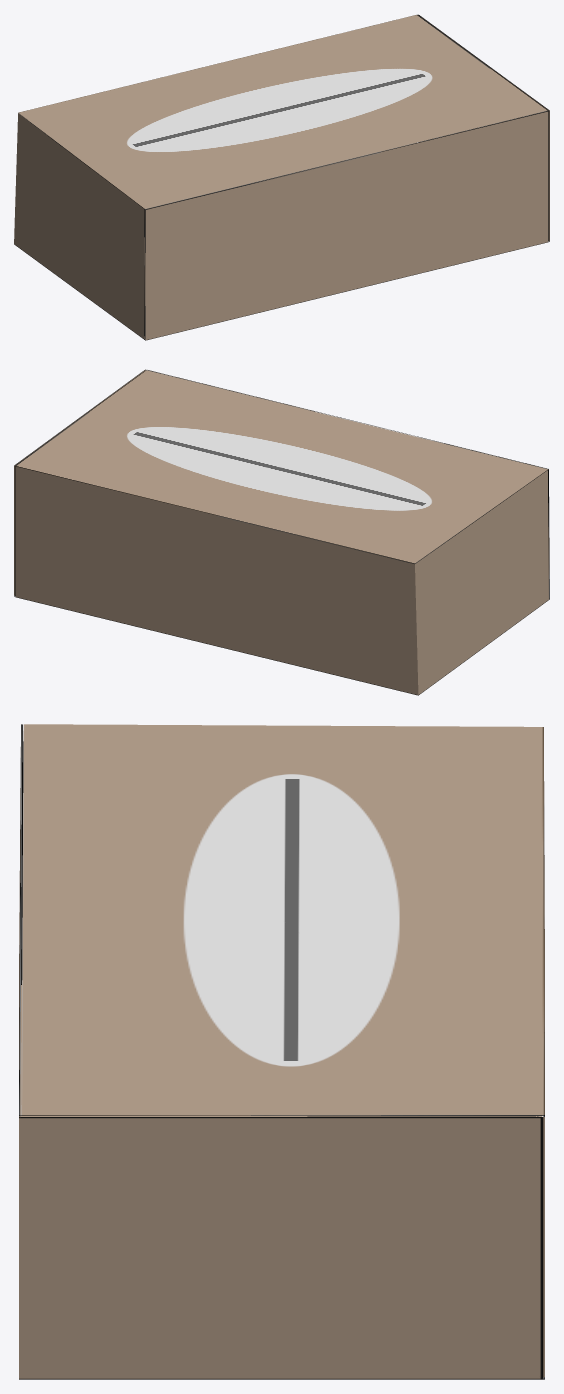
File: Taschentuchbox.fbx
3 views of the same model, one above another, from view 1: azimuth 30°, elevation 25°; view 2: azimuth 150°, elevation 25°; view 3: azimuth 270°, elevation 25° (orthographic). The views are drawn at different scales.
Parts seen in each view (by area): view 1: Taschentuchbox; view 2: Taschentuchbox; view 3: Taschentuchbox.
Boxes of the visible parts, x1,y1,x2,y2 form: Taschentuchbox: (14,14,549,340); Taschentuchbox: (14,369,549,695); Taschentuchbox: (19,724,544,1379).
Size of the model in its own units: 462 by 143 by 260.
Materials: 1 (1 with a texture image).
